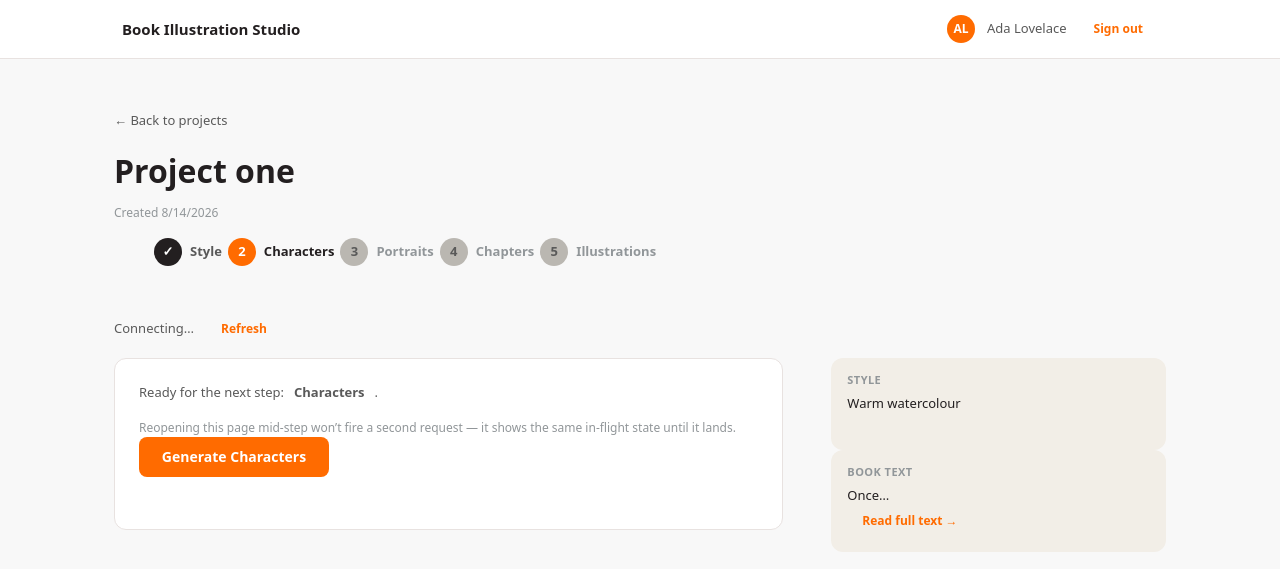
Test: the detail hash route loads the project and its back action returns to the list
expect the heading "Project one" is shown: met, box top-left (114, 149), bottom-right (295, 192)
Click the button "← Back to projects" at (171, 120), box top-left (114, 111), bottom-right (228, 129)
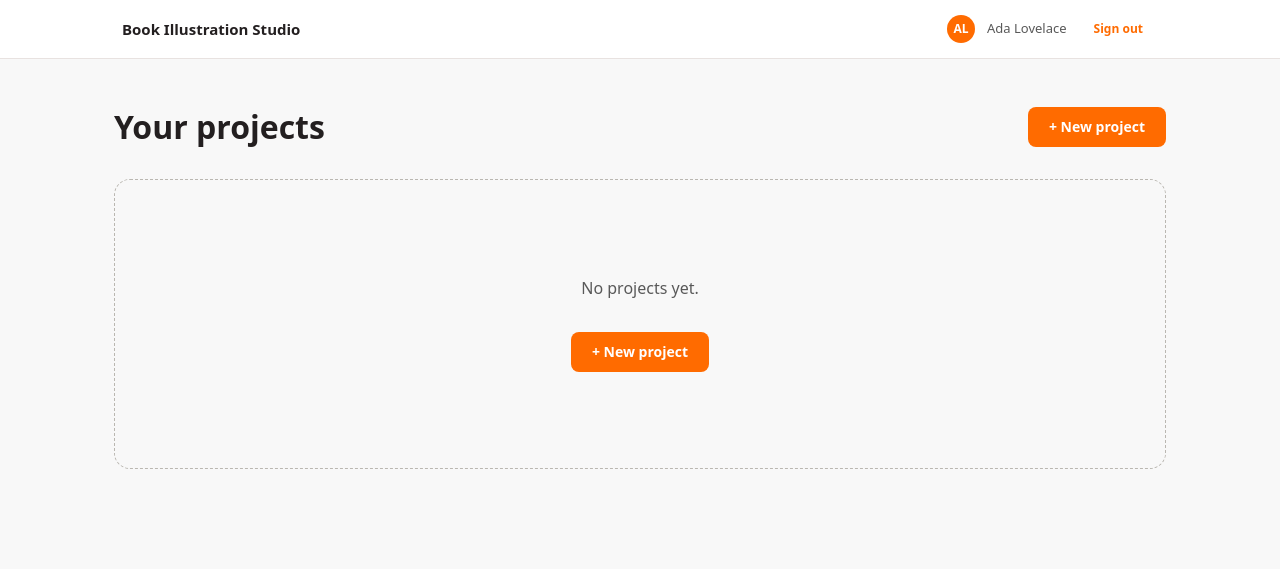
expect the heading "Your projects" is shown: met, box top-left (114, 109), bottom-right (325, 145)
